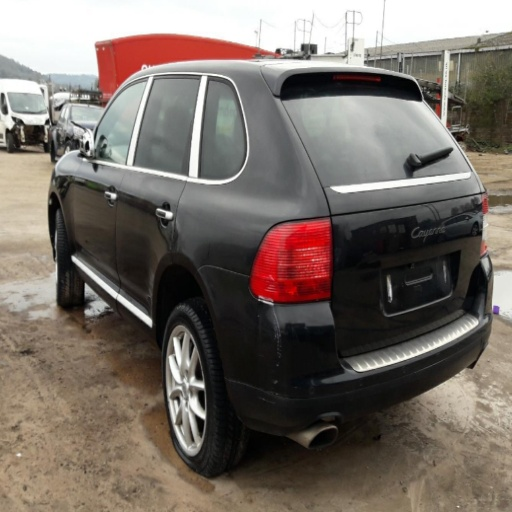scratch: (256, 309, 282, 407), (148, 270, 155, 310)
